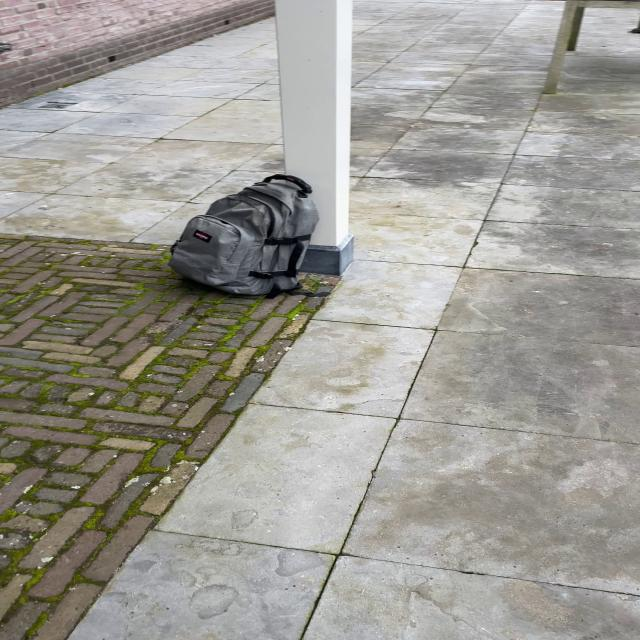backpack: (160, 172, 330, 302)
